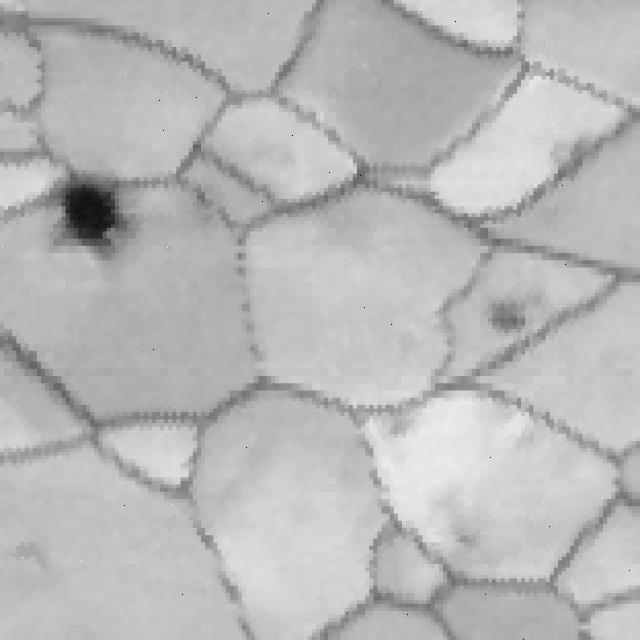good_void: (37, 174, 140, 258), (428, 484, 501, 563), (541, 128, 613, 187), (480, 291, 543, 342), (385, 403, 431, 442)
